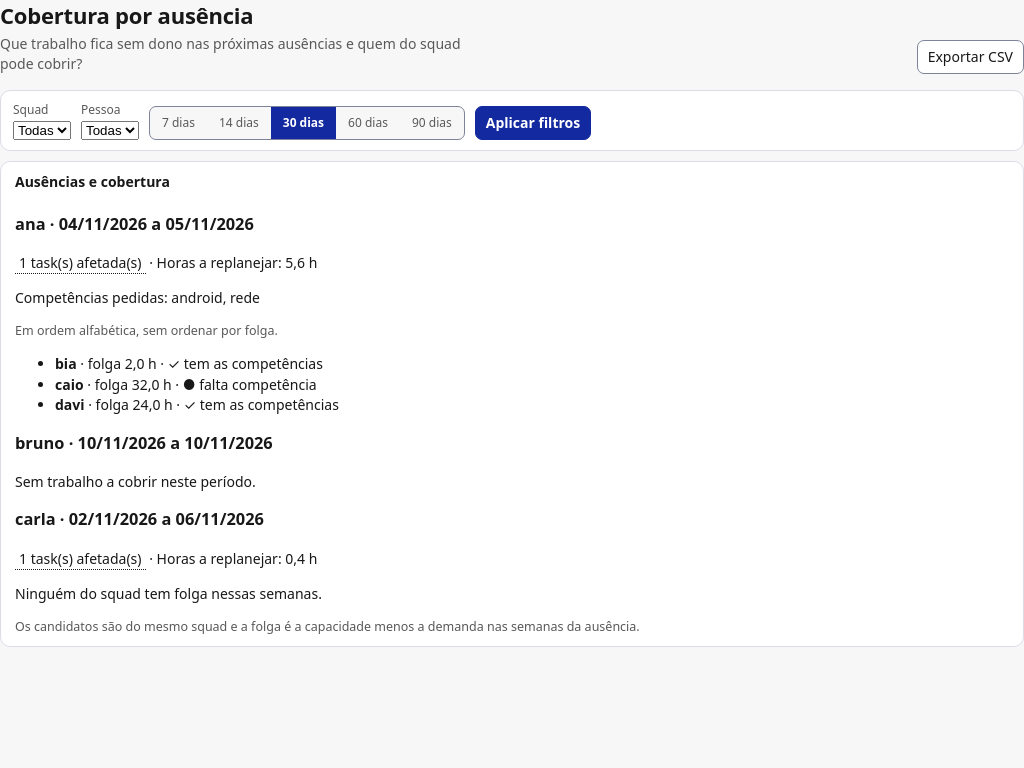
Test: tela Cobertura por ausência › tasksAfetadasAbremAGavetaComMesmoTamanho
The width and height of the screenshot is (1024, 768).
Click the button "1 task(s) afetada(s)" next to "Horas a replanejar: 5,6 h".
click(80, 263)  # box [15,253,146,274]
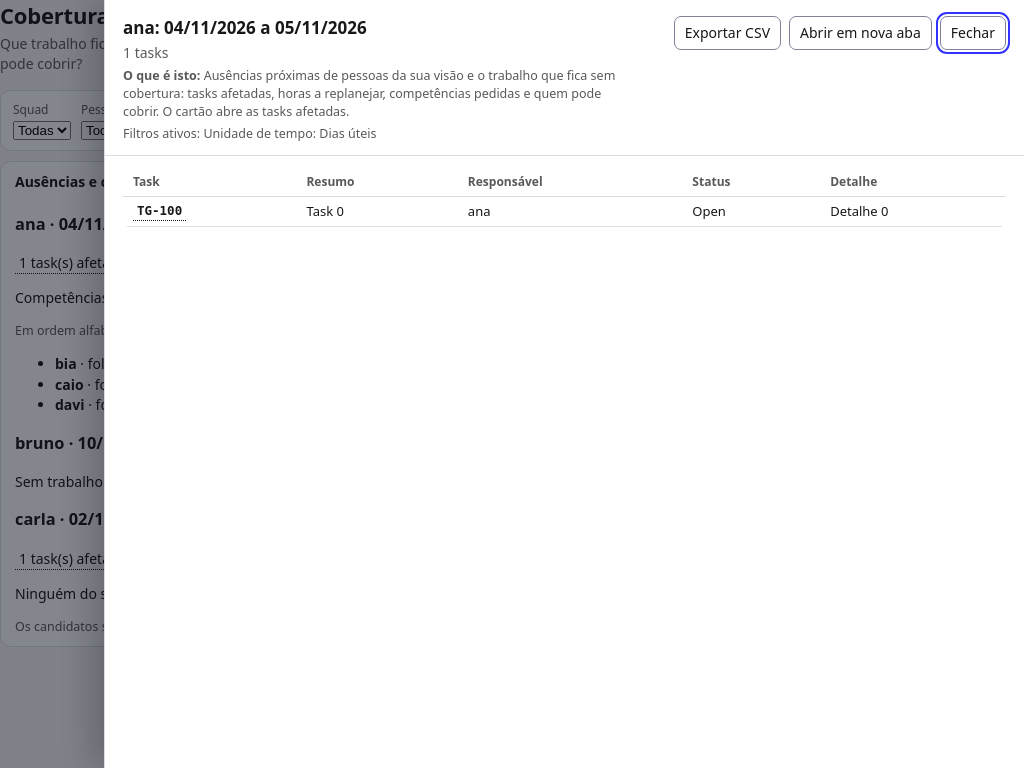
Result: the text "1 tasks" is shown at [123,43,168,62]
